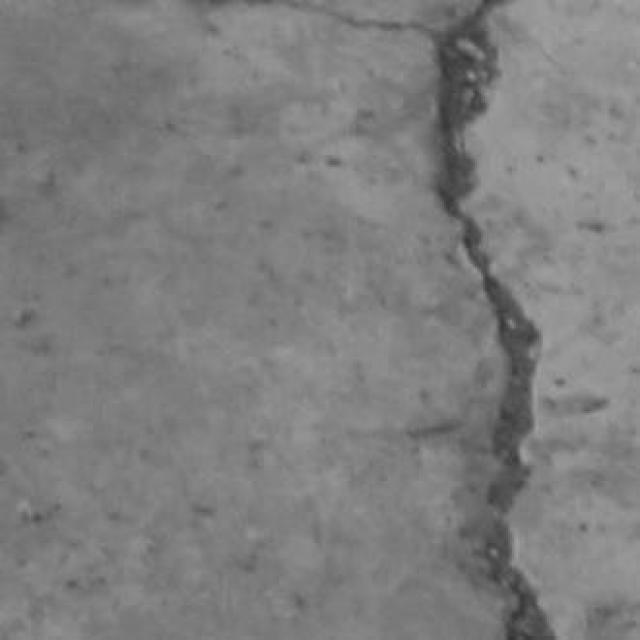crack: (198, 0, 554, 639), (437, 0, 554, 639), (200, 0, 440, 38)
